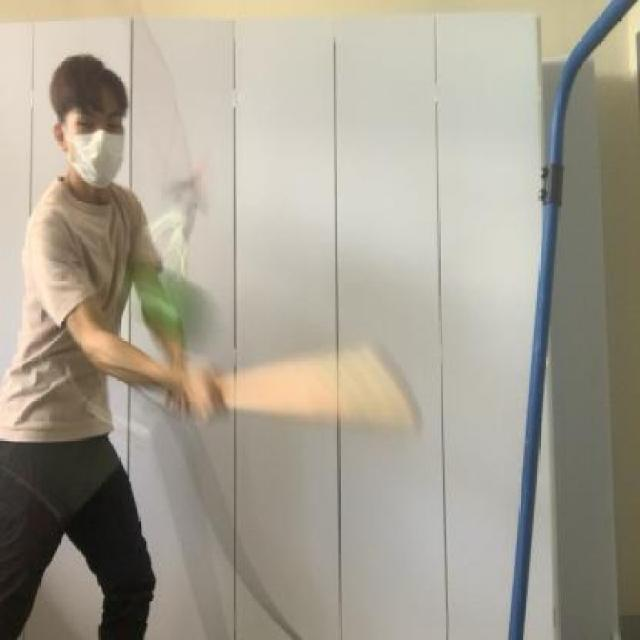baseball: (121, 252, 228, 371)
